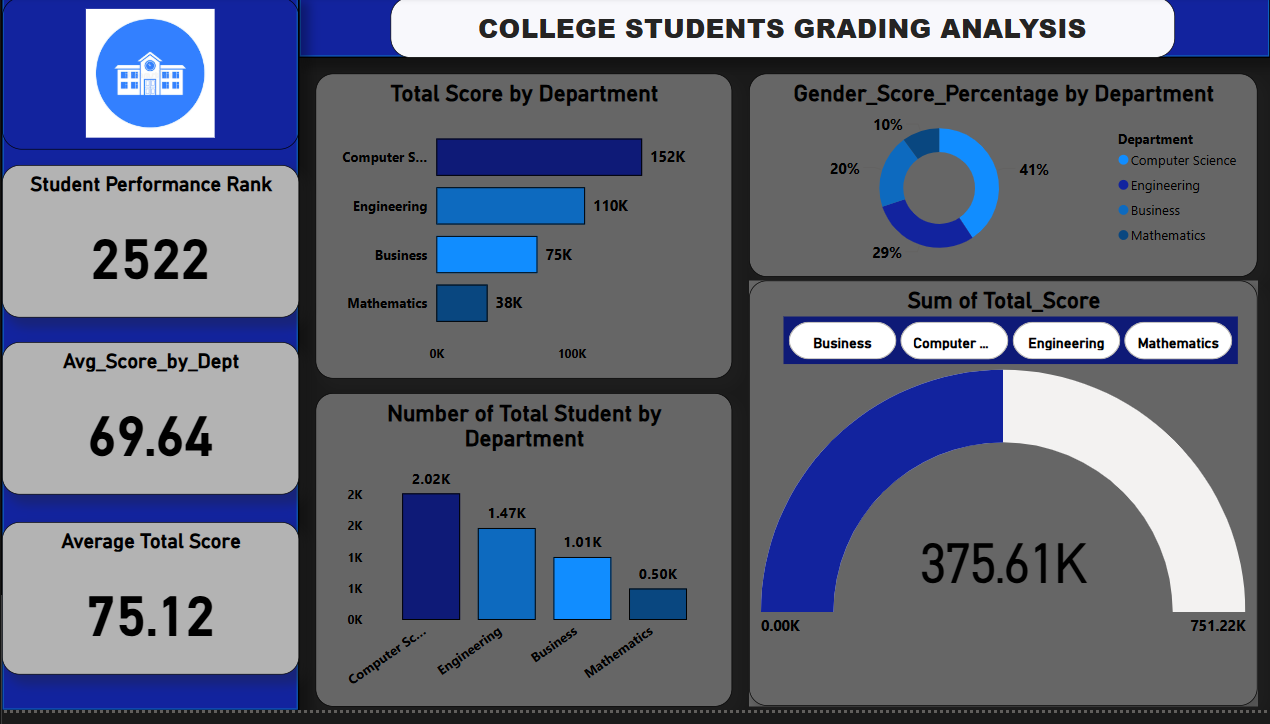

What the dashboard file says about the page in this screenshot:
{"tool":"powerbi","page":{"name":"Student wise Insight","canvas":[1280,720],"ordinal":0},"visuals":[{"type":"shape","box":[299.8,0,980.6,61.3],"z":0},{"type":"textbox","box":[392.6,0,791.8,61.3],"z":1000},{"type":"shape","box":[0,0,299.8,720.6],"z":2000},{"type":"clusteredBarChart","title":"Total Score by Department","fields":{"Category":["Student_Info.Department"],"Y":["Sum(Performance.Total_Score)"]},"box":[316.4,77.9,420.7,308.1],"z":3000},{"type":"columnChart","fields":{"Category":["Student_Info.Department"],"Y":["Student_Info.Number of Total Student"]},"box":[316.4,399.2,420.7,316.4],"z":4000},{"type":"gauge","fields":{"Y":["Sum(Performance.Total_Score)"]},"box":[753.7,286.6,513.5,429],"z":5000,"group":"g1"},{"type":"image","box":[0,0,299.8,154.1],"z":5000},{"type":"card","title":"Avg_Score_by_Dept","fields":{"Values":["Student_Info.Avg_Score_By_Dept"]},"box":[0,347.9,299.8,154.1],"z":6000},{"type":"advancedSlicerVisual","fields":{"Values":["Student_Info.Department"]},"box":[788.5,323,458.8,48],"z":7000,"group":"g1"},{"type":"card","title":"Average Total Score","fields":{"Values":["Performance.Avg_Total_Score"]},"box":[0,530.1,299.8,154.1],"z":7000},{"type":"donutChart","fields":{"Y":["Student_Info.Gender_Score_Percentage"],"Category":["Student_Info.Department"]},"box":[753.7,77.9,513.5,205.4],"z":8000},{"type":"group","id":"g1","title":"Group 1","box":[753.7,286.6,513.5,429],"z":9000},{"type":"card","title":"Student Performance Rank","fields":{"Values":["Student_Info.Student_Rank"]},"box":[0,169,299.8,154.1],"z":10000}]}

Visuals, with their boxes in screenshot pixels (x1, y1, x2, y2), scaled from the page's 1280x720 canvas onto the 1270x724 screenshot:
shape: locate(297, 0, 1269, 62)
textbox: locate(390, 0, 1175, 62)
shape: locate(0, 0, 297, 723)
"Total Score by Department" clusteredBarChart: locate(314, 78, 731, 388)
columnChart - Student_Info.Department x Student_Info.Number of Total Student: locate(314, 401, 731, 720)
gauge - Sum(Performance.Total_Score): locate(748, 288, 1257, 720)
image: locate(0, 0, 297, 155)
"Avg_Score_by_Dept" card: locate(0, 350, 297, 505)
advancedSlicerVisual - Student_Info.Department: locate(782, 325, 1238, 373)
"Average Total Score" card: locate(0, 533, 297, 688)
donutChart - Student_Info.Gender_Score_Percentage x Student_Info.Department: locate(748, 78, 1257, 285)
"Group 1" group: locate(748, 288, 1257, 720)
"Student Performance Rank" card: locate(0, 170, 297, 325)
